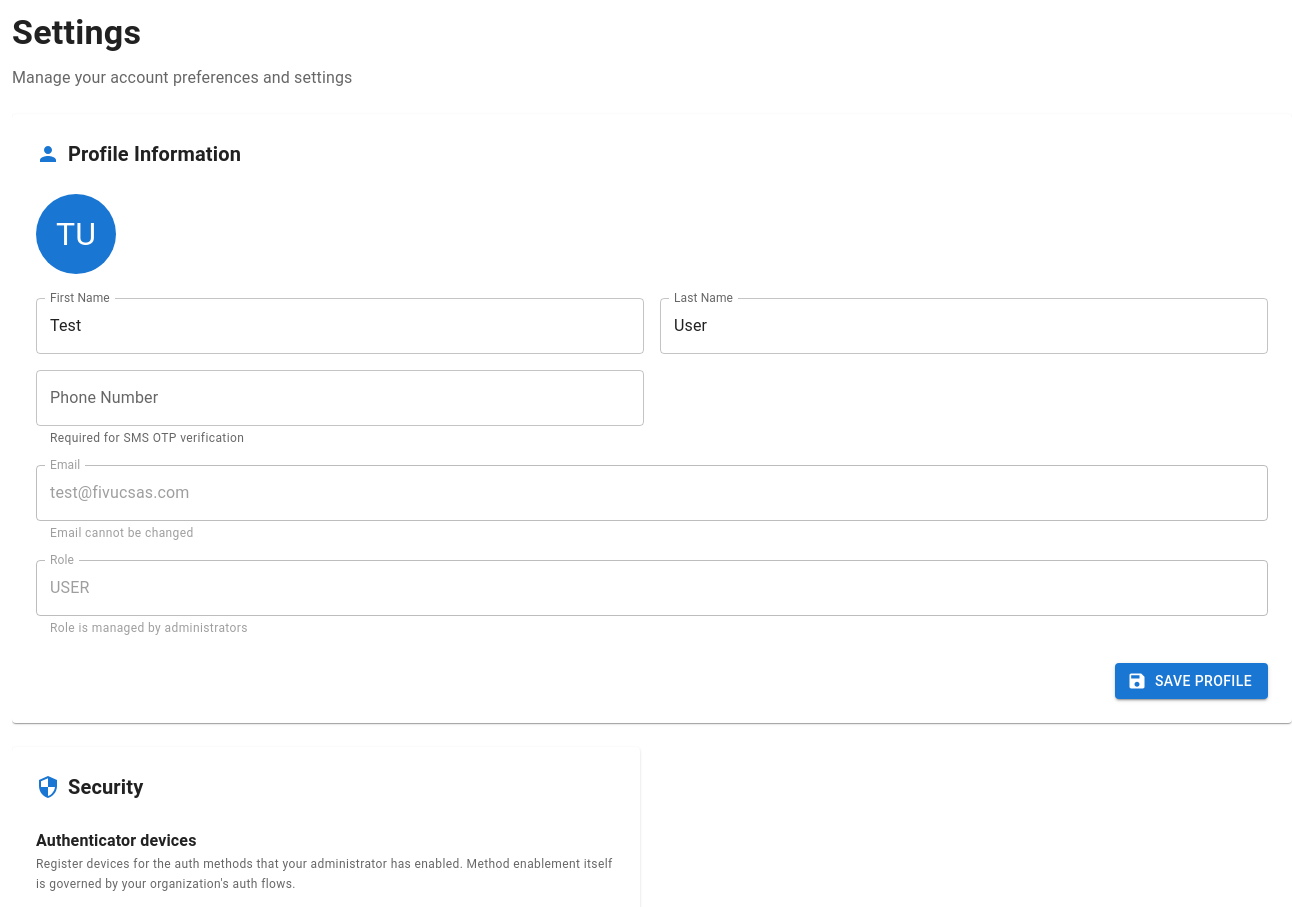
SettingsPage — phone E.164 wiring › enables Save when phone is valid E.164 and disables when invalid
This screenshot has width=1292, height=907.
Check: the button "Save Profile" is enabled, box [1115,663,1268,699]
Valid E.164 → Save still enabled.
In the field with placeholder "+90 5XX XXX XX XX": x=340, y=398 [36,370,644,426], type "5551234567"
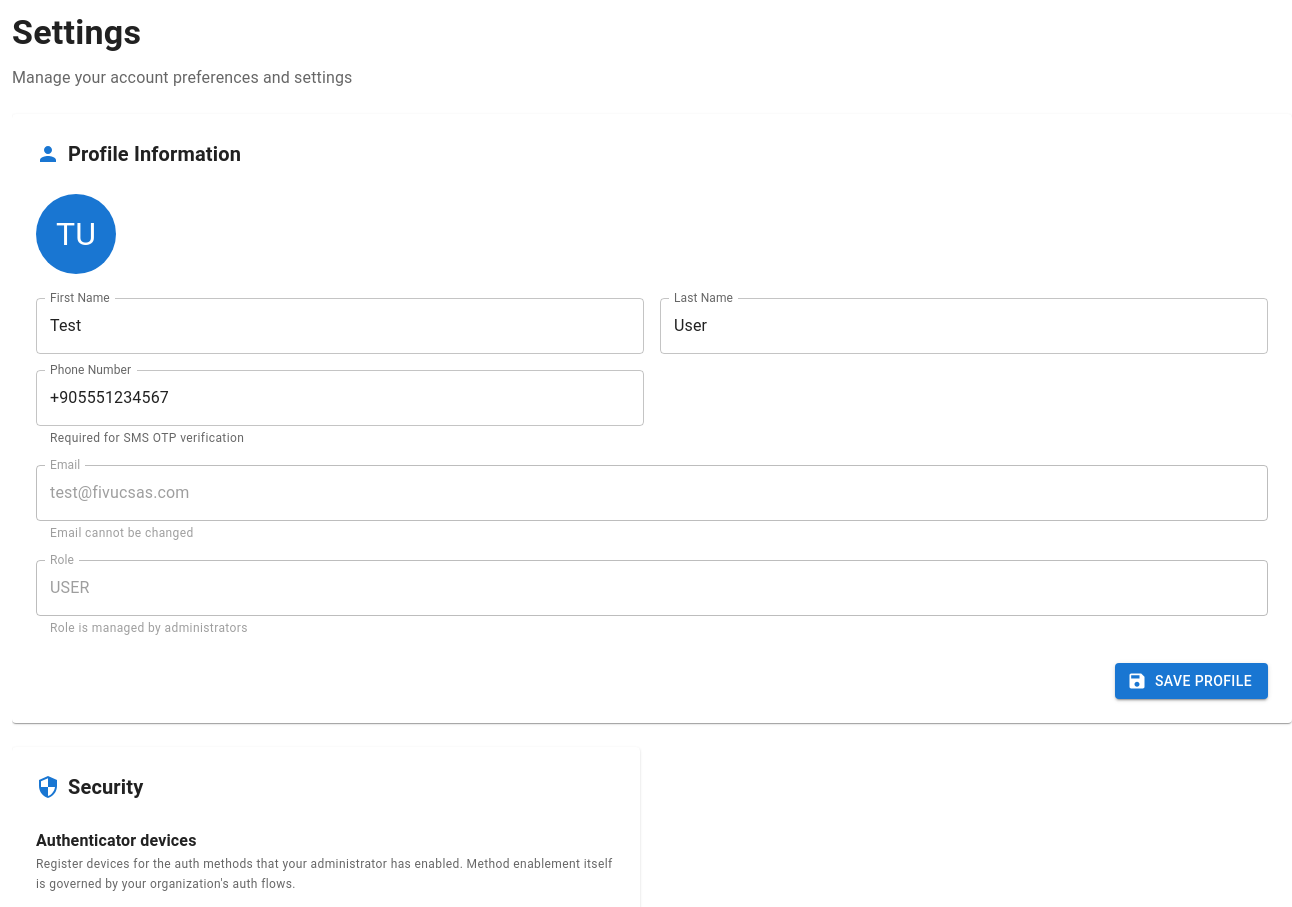
Check: the button "Save Profile" is enabled, box [1115,663,1268,699]
Check: the field with placeholder "+90 5XX XXX XX XX" holds "+905551234567"
Replace the text in the field with placeholder "+90 5XX XXX XX XX" with "+12": x=340, y=398 [36,370,644,426]
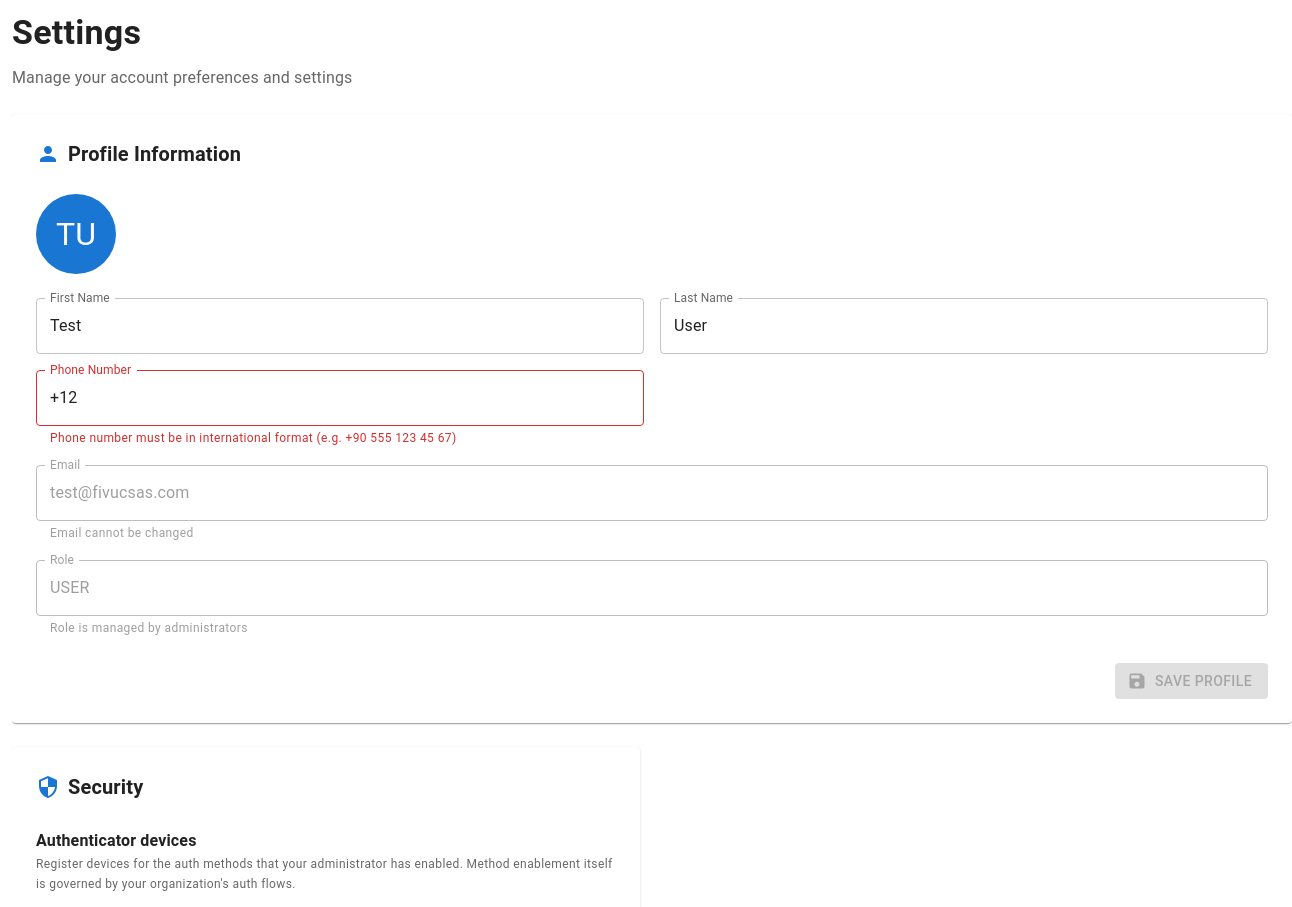
Check: the button "Save Profile" is disabled, box [1115,663,1268,699]
